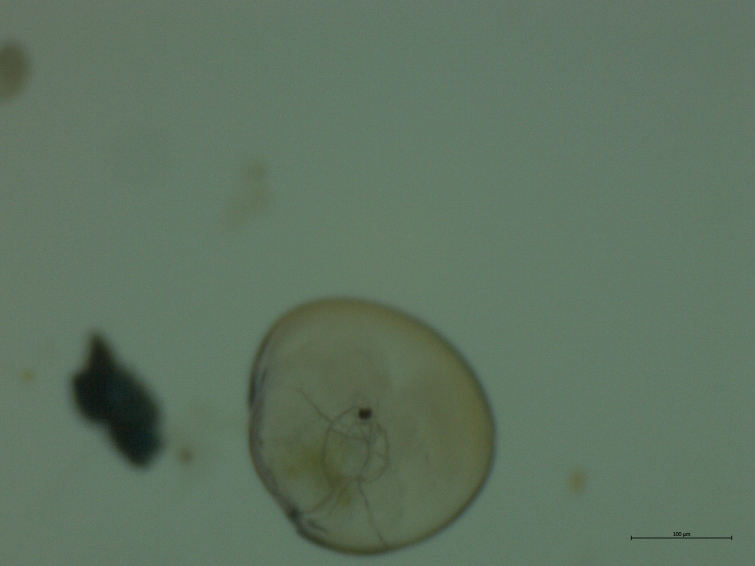oyster: (239, 291, 501, 557)
